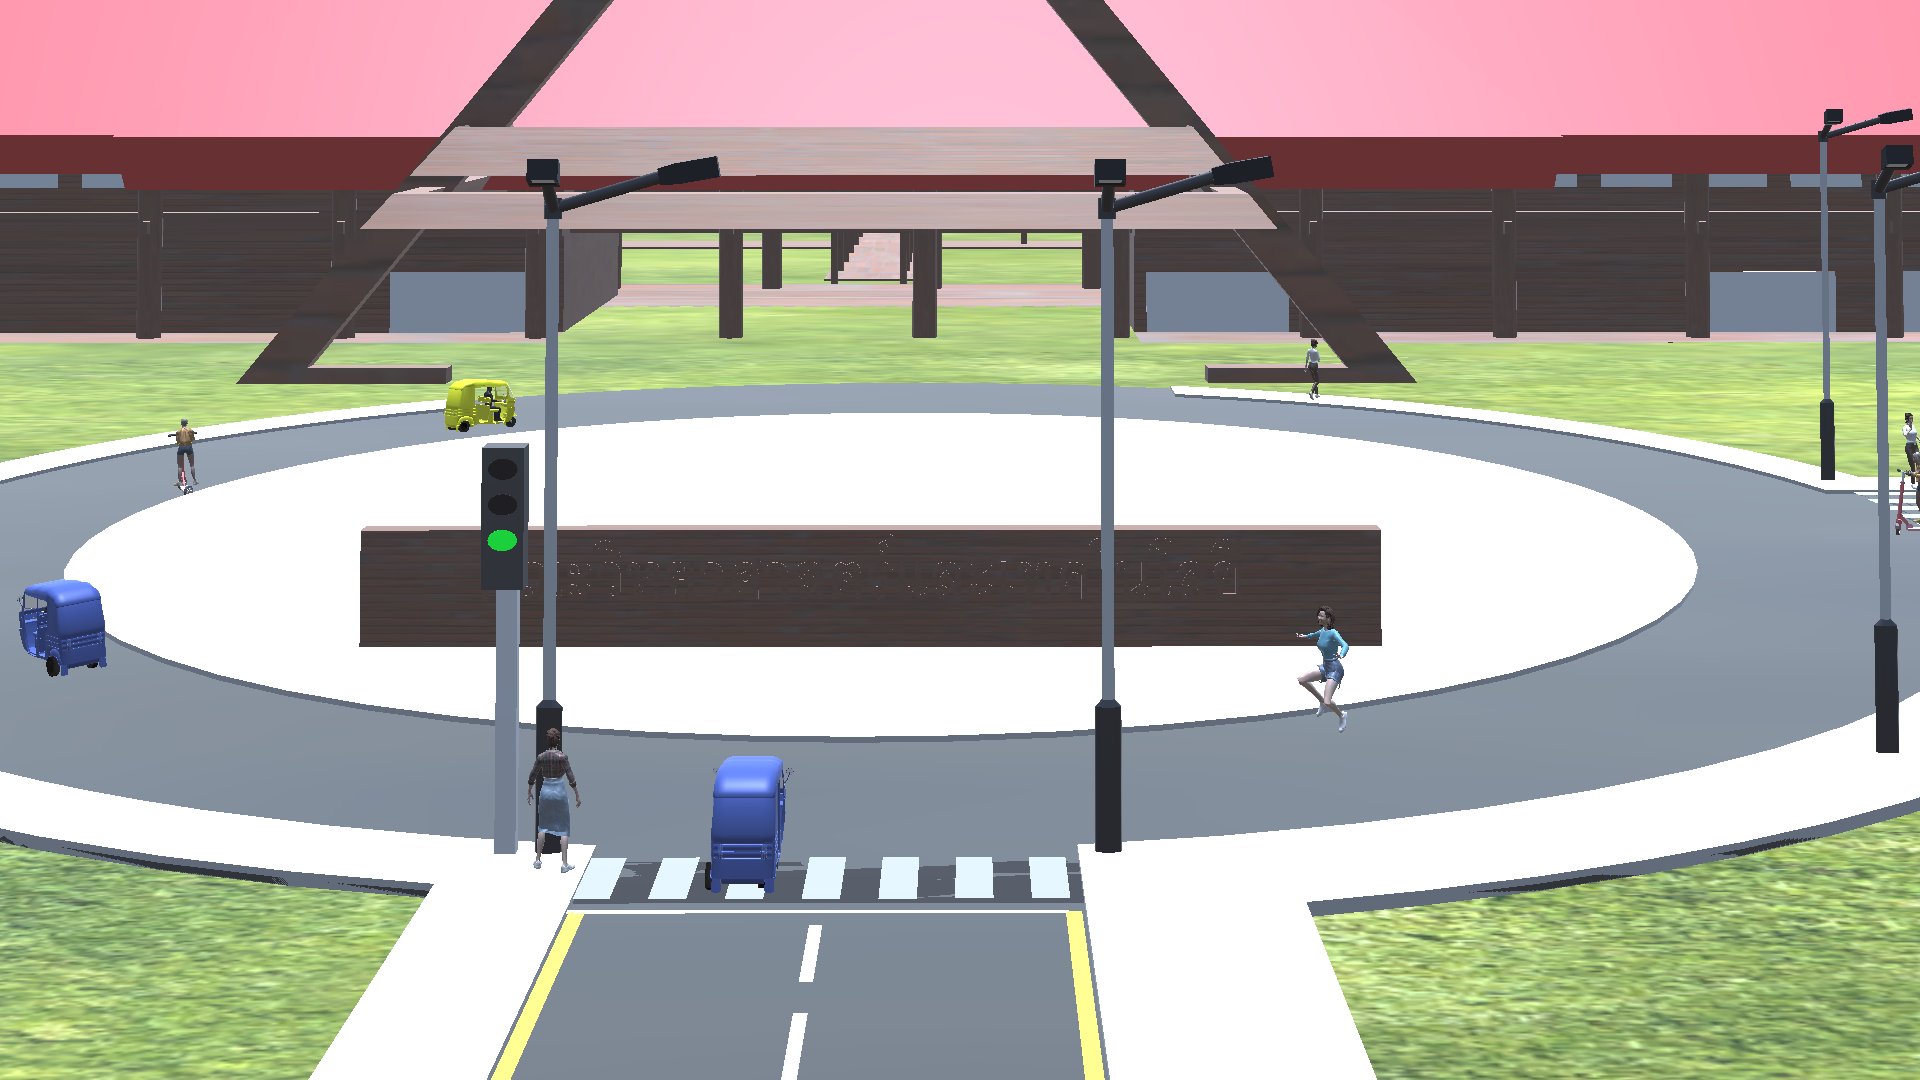pedestrian: (526, 722, 586, 884), (1295, 601, 1363, 730), (1896, 413, 1920, 487), (1300, 336, 1322, 401)
